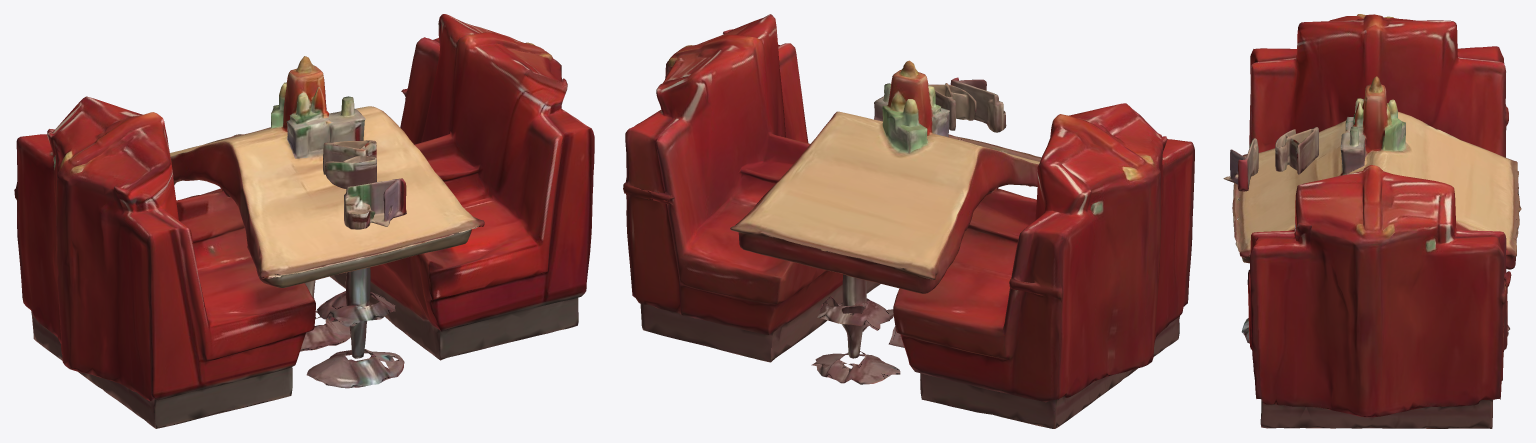
Rendered from booth.glb.
3 views of the same model, side by side, from view 1: azimuth 30°, elevation 25°; view 2: azimuth 150°, elevation 25°; view 3: azimuth 270°, elevation 25° (orthographic). The views are drawn at different scales.
Parts seen in each view (by area): view 1: piece; view 2: piece; view 3: piece.
Boxes of the visible parts, bbox=[...] form: piece: bbox=[14, 14, 594, 428]; piece: bbox=[623, 14, 1194, 428]; piece: bbox=[1223, 14, 1521, 428].
Bounding box in the file's own units: 2.13 × 1.15 × 1.2.
Materials: 1 (1 with a texture image).
